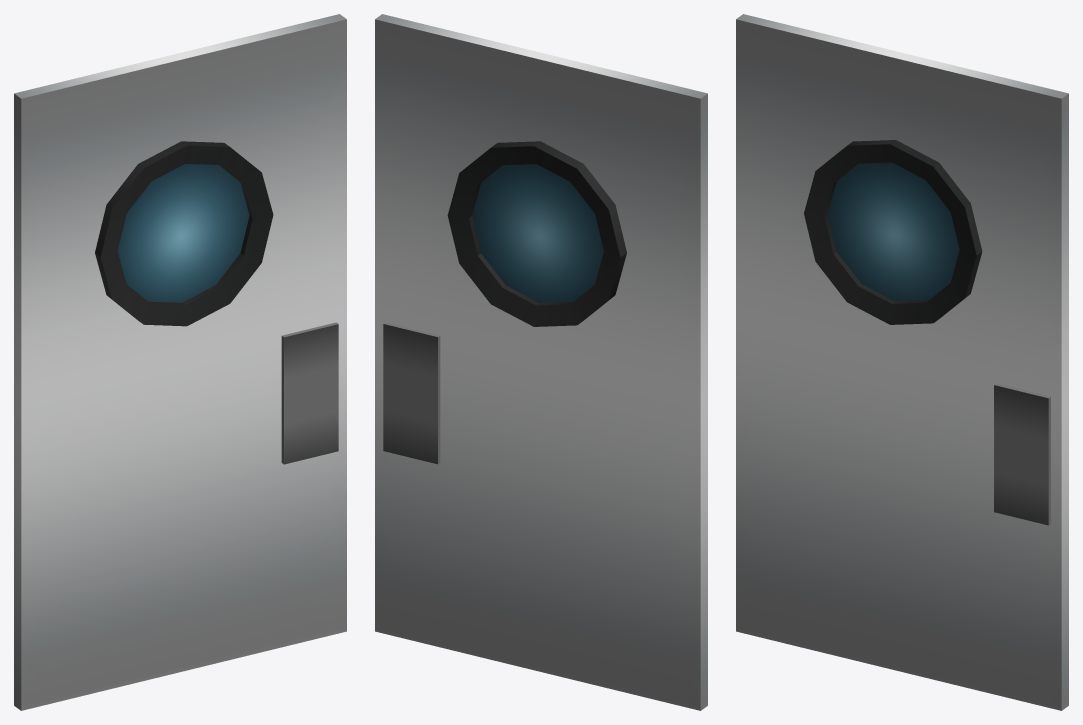
The model's file is Kitchen Door.FBX.
3 views of the same model, side by side, from view 1: azimuth 30°, elevation 25°; view 2: azimuth 150°, elevation 25°; view 3: azimuth 330°, elevation 25° (orthographic).
Parts seen in each view (by area): view 1: Kitchen_Door; view 2: Kitchen_Door; view 3: Kitchen_Door.
Boxes of the visible parts, left/top/right/bottom form: Kitchen_Door: left=14, top=14, right=346, bottom=710; Kitchen_Door: left=375, top=14, right=707, bottom=710; Kitchen_Door: left=736, top=14, right=1068, bottom=710.
Bounding box in the file's own units: 207 × 372 × 21.73.
